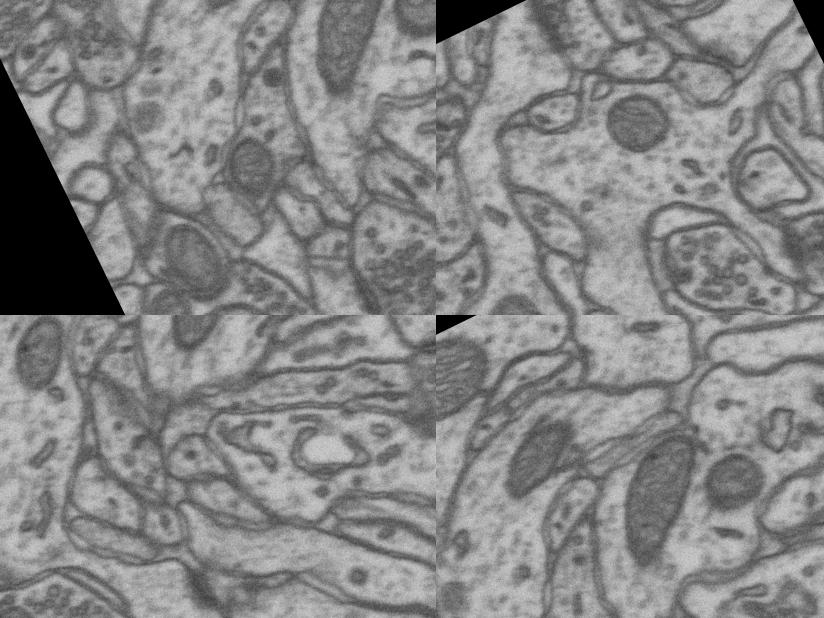mitochondria: (578, 414, 740, 582), (268, 0, 427, 109), (472, 404, 593, 511), (584, 76, 686, 176), (436, 316, 511, 445), (150, 210, 241, 314), (205, 120, 297, 219), (688, 436, 780, 526), (0, 315, 94, 398), (439, 265, 580, 315), (137, 315, 259, 369), (372, 0, 436, 54), (179, 0, 300, 22), (137, 280, 203, 315)
